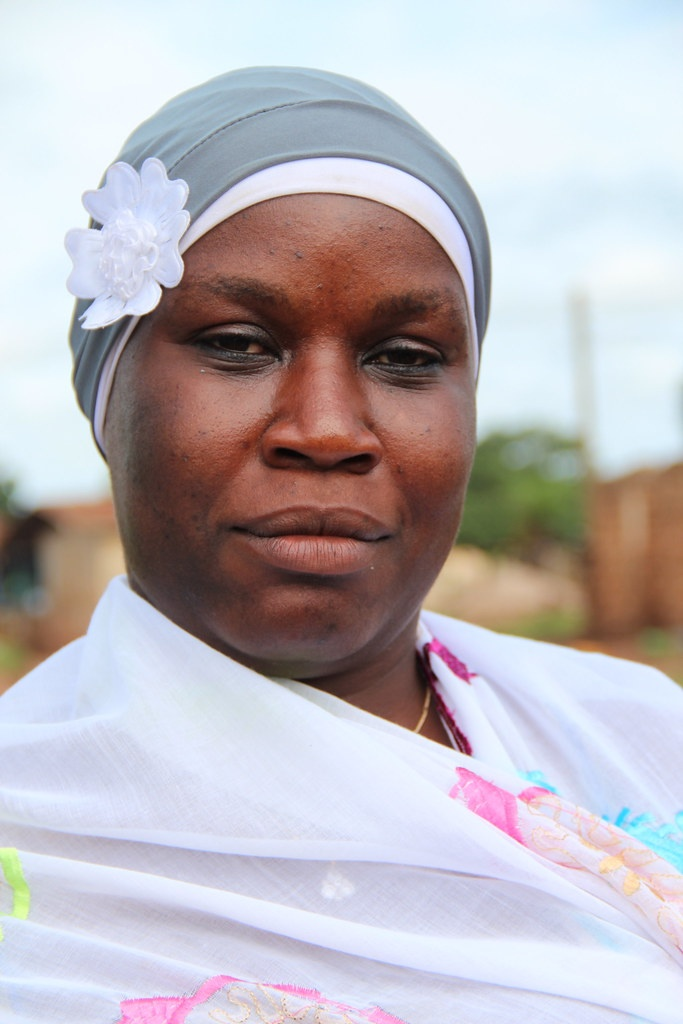without_mask: (83, 182, 481, 670)
